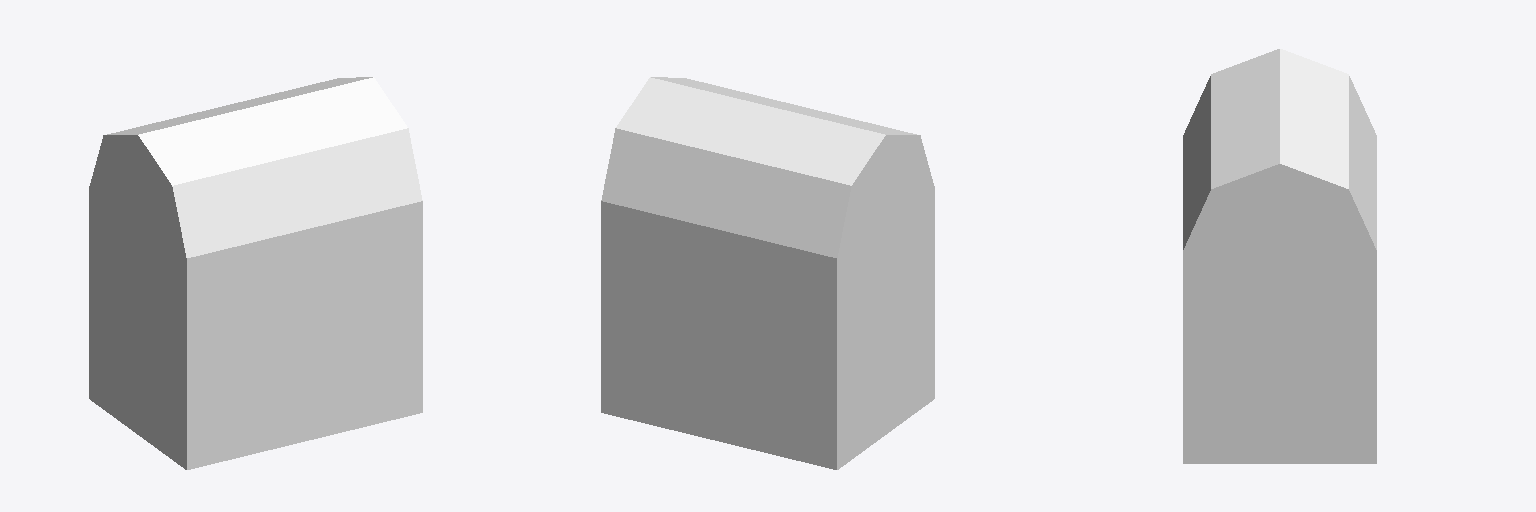
Rendered from Chest.obj.
3 renders of one model, left to right at view 1: azimuth 30°, elevation 25°; view 2: azimuth 150°, elevation 25°; view 3: azimuth 270°, elevation 25°, orthographic.
Visible parts, largest first — view 1: Chest; view 2: Chest; view 3: Chest.
Boxes of the visible parts, x1,y1,x2,y2 form: Chest: [89, 77, 422, 469]; Chest: [601, 77, 934, 469]; Chest: [1183, 49, 1376, 463].
Size of the model in its own units: 0.7 by 0.85 by 0.5.